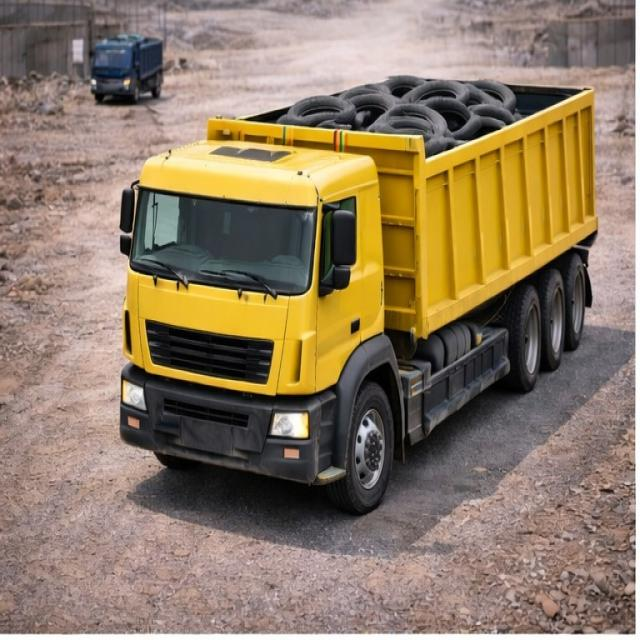trailer: (210, 72, 596, 151)
truck: (114, 37, 602, 507)
